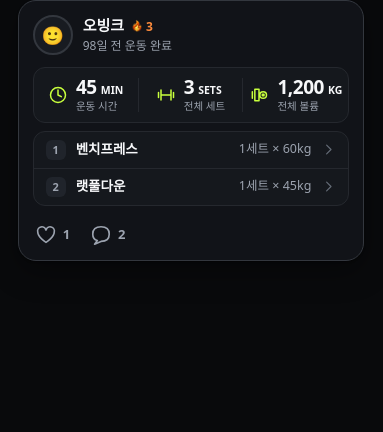
Test case: FeedItemCard — 댓글 › 💬를 누르면 스레드와 입력창이 열린다
Click the button named "댓글 2개" at (108, 234), box x1=90 y1=218 x2=126 y2=252
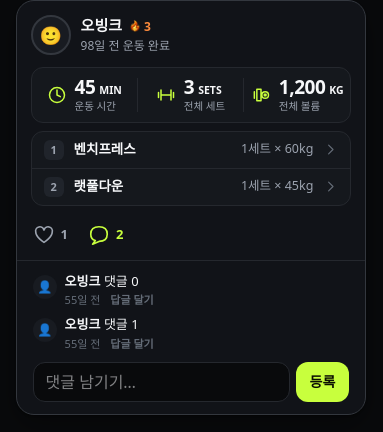
Check: the field named "댓글 입력" is shown, box x1=33 y1=362 x2=290 y2=402
Check: the text "댓글 0" is shown, box x1=104 y1=272 x2=139 y2=290
